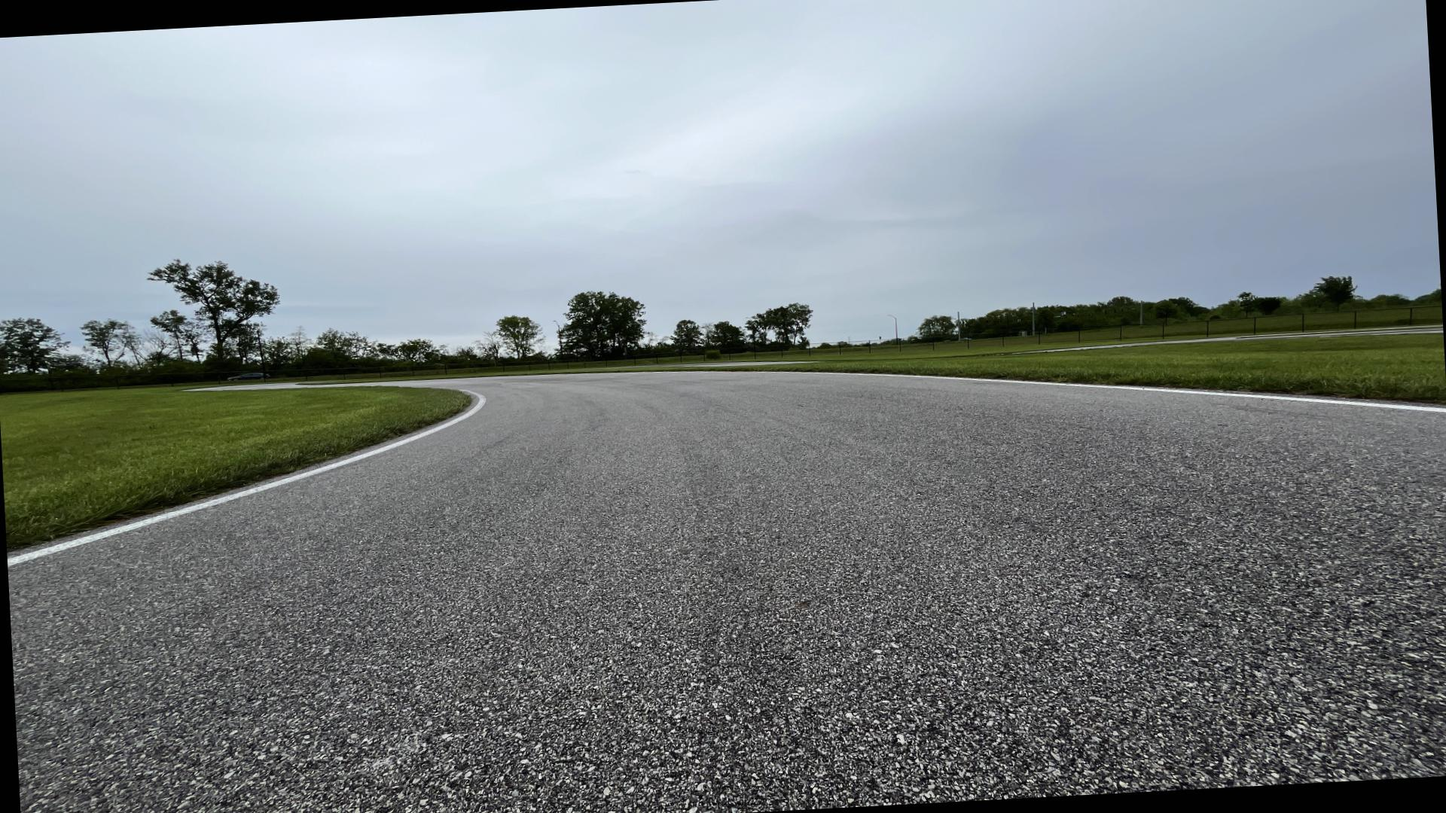white-line: (8, 390, 486, 566), (740, 372, 1445, 414)
